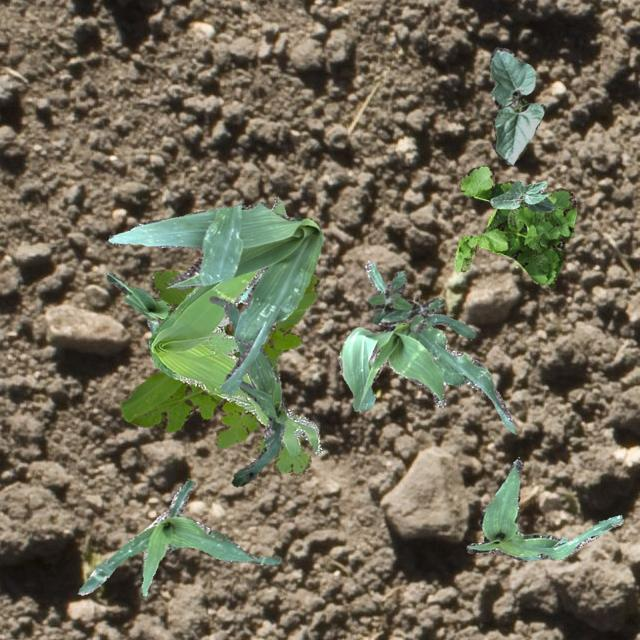crop: (108, 200, 322, 394), (338, 260, 514, 432), (76, 478, 280, 594), (466, 458, 622, 560), (208, 294, 286, 486), (105, 272, 261, 334), (488, 46, 544, 164), (488, 178, 552, 212)
weed: (147, 195, 320, 456), (119, 268, 318, 476), (452, 165, 576, 288), (368, 270, 443, 332)
